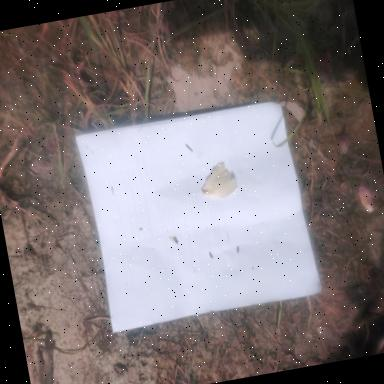pbw: (209, 251, 214, 259), (174, 235, 178, 244), (236, 246, 240, 254)
